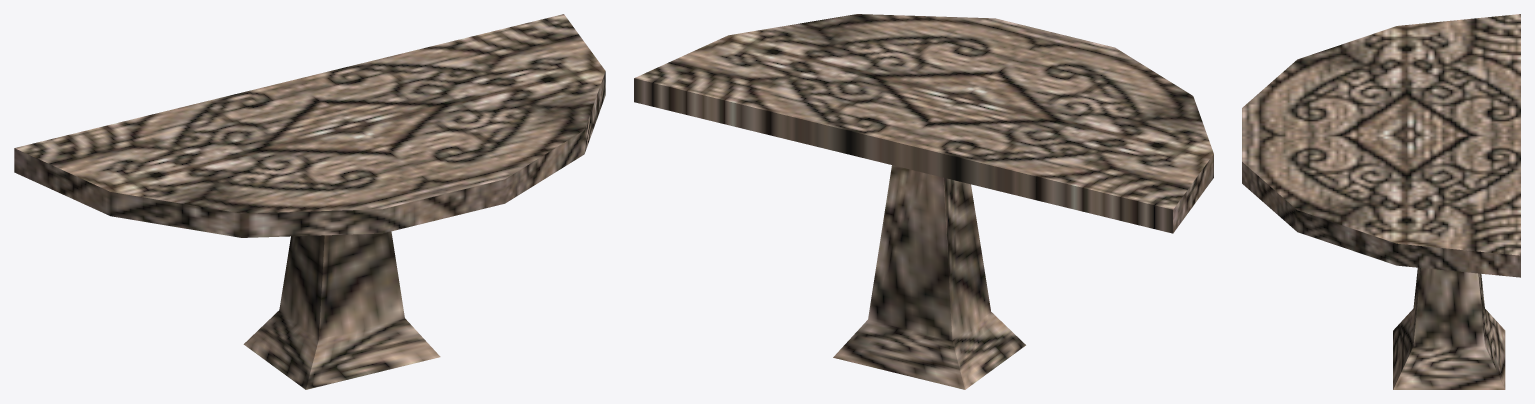
File: Furniture04.glb
3 views of the same model, side by side, from view 1: azimuth 30°, elevation 25°; view 2: azimuth 150°, elevation 25°; view 3: azimuth 270°, elevation 25° (orthographic). The views are drawn at different scales.
Parts seen in each view (by area): view 1: Furniture04; view 2: Furniture04; view 3: Furniture04.
Part boxes in pixels (bbox=[...]): Furniture04: bbox=[14, 14, 605, 389]; Furniture04: bbox=[634, 14, 1213, 389]; Furniture04: bbox=[1242, 14, 1520, 389].
Bounding box in the file's own units: 2.04 × 0.8633 × 0.9929.
Materials: 1 (1 with a texture image).
